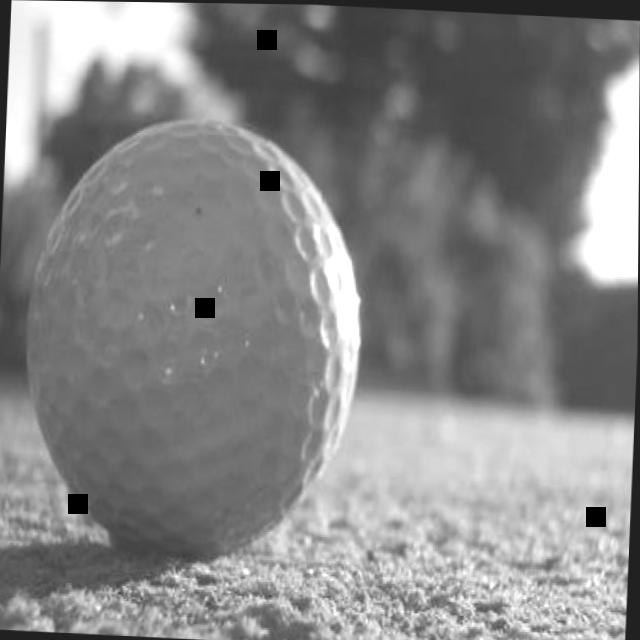golf ball: (6, 92, 369, 567)
